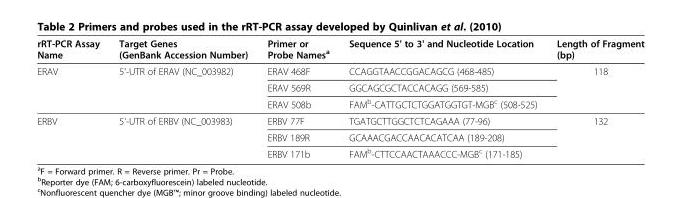table: (36, 37, 643, 159)
table column: (338, 37, 546, 159), (108, 37, 256, 159), (546, 37, 643, 159), (256, 37, 338, 159), (36, 37, 108, 159)
table column header: (36, 37, 643, 62)
table row: (36, 37, 643, 62), (36, 62, 643, 79), (36, 95, 643, 112), (36, 79, 643, 95), (36, 112, 643, 128), (36, 128, 643, 144), (36, 144, 643, 159)
table spanning cell: (36, 62, 108, 112), (36, 112, 108, 159)
